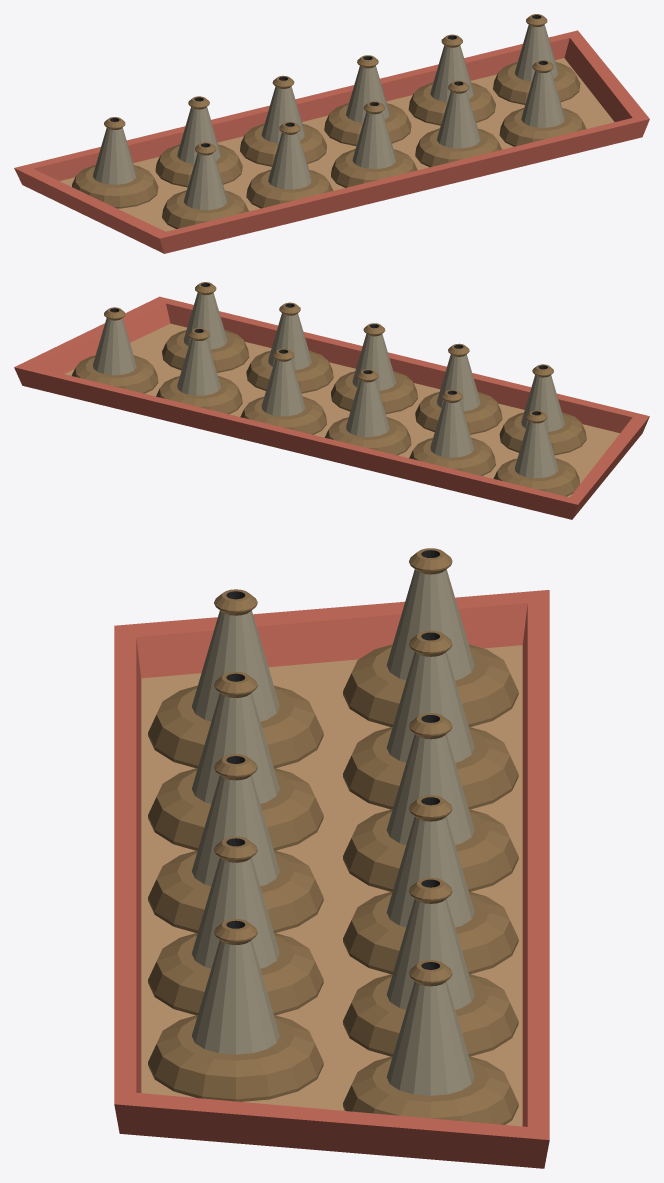
Rendered from pinches.fbx.
The picture shows the model from 3 angles, top to bottom: view 1: azimuth 30°, elevation 25°; view 2: azimuth 150°, elevation 25°; view 3: azimuth 270°, elevation 25°; orthographic projection. The views are drawn at different scales.
Parts seen in each view (by area): view 1: Plane, Circle, Circle.009, Circle.006, Circle.008, Circle.007, Circle.010, Circle.001, Circle.004, Circle.002, Circle.003, Circle.005; view 2: Plane, Circle.002, Circle.001, Circle.004, Circle.005, Circle.003, Circle, Circle.006, Circle.008, Circle.007, Circle.010, Circle.009; view 3: Plane, Circle.010, Circle.005, Circle.006, Circle.007, Circle.004, Circle.009, Circle, Circle.003, Circle.008, Circle.002, Circle.001.
Boxes of the visible parts, x1,y1,x2,y2 form: Plane: (14, 30, 649, 253); Circle: (72, 117, 158, 208); Circle.009: (415, 80, 501, 167); Circle.006: (162, 142, 248, 228); Circle.008: (331, 101, 417, 187); Circle.007: (246, 121, 333, 208); Circle.010: (499, 60, 586, 146); Circle.001: (155, 96, 242, 187); Circle.004: (408, 34, 495, 125); Circle.002: (240, 75, 326, 166); Circle.003: (324, 55, 411, 145); Circle.005: (493, 14, 580, 104); Plane: (14, 296, 649, 519); Circle.002: (325, 369, 411, 455); Circle.001: (409, 389, 495, 475); Circle.004: (156, 328, 242, 414); Circle.005: (71, 307, 158, 393); Circle.003: (240, 348, 326, 434); Circle: (493, 410, 579, 496); Circle.006: (499, 364, 586, 455); Circle.008: (331, 323, 417, 414); Circle.007: (415, 343, 502, 434); Circle.010: (162, 282, 249, 372); Circle.009: (246, 302, 333, 393); Plane: (114, 590, 549, 1168); Circle.010: (148, 918, 323, 1101); Circle.005: (343, 960, 518, 1124); Circle.006: (148, 589, 323, 768); Circle.007: (148, 671, 323, 850); Circle.004: (343, 877, 518, 1056); Circle.009: (148, 836, 323, 1015); Circle: (343, 548, 518, 726); Circle.003: (343, 795, 518, 974); Circle.008: (148, 754, 323, 932); Circle.002: (343, 713, 518, 891); Circle.001: (343, 630, 518, 809).
Size of the model in its own units: 167 by 19.88 by 55.86.
